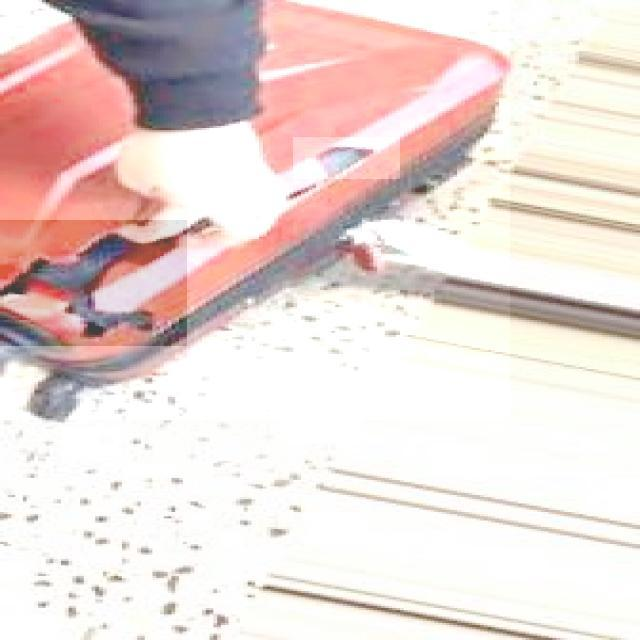Damage-bag: (0, 218, 213, 337), (285, 146, 372, 201)
